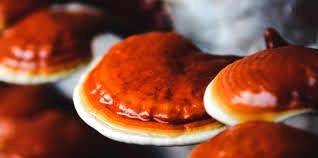Ganoderma - Fruit Body: (76, 31, 204, 146), (204, 38, 318, 120), (0, 8, 73, 87), (206, 122, 318, 158)
